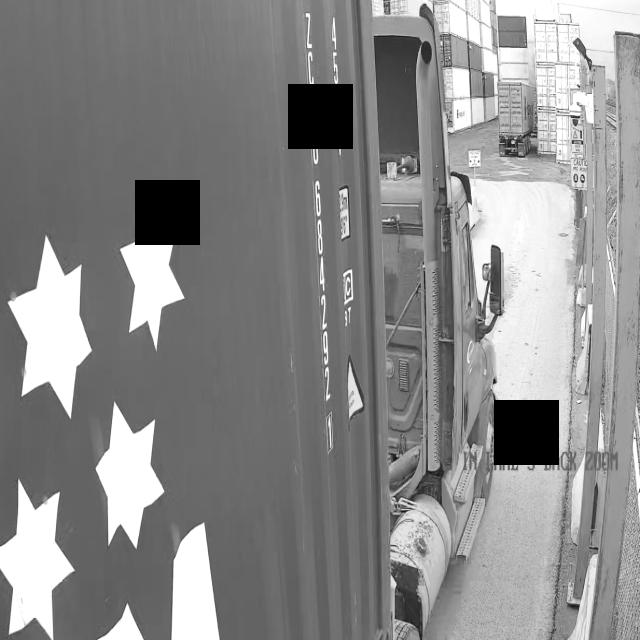container_side_no: (302, 0, 349, 464)
truck_with_container: (0, 0, 505, 640)
